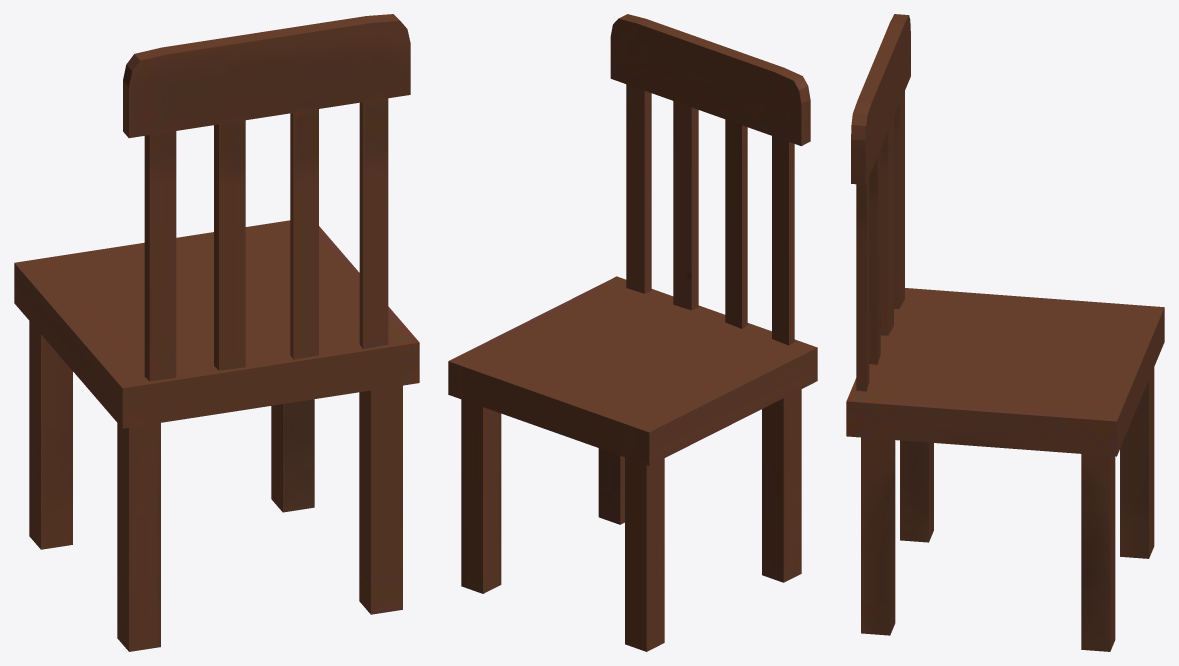
Rendered from chair.glb.
3 renders of one model, left to right at view 1: azimuth 30°, elevation 25°; view 2: azimuth 150°, elevation 25°; view 3: azimuth 270°, elevation 25°, orthographic. The views are drawn at different scales.
Visible parts, largest first — view 1: Cube.002; view 2: Cube.002; view 3: Cube.002.
Part boxes in pixels (x1,y1,x2,y2): Cube.002: [14, 14, 419, 651]; Cube.002: [448, 14, 817, 651]; Cube.002: [846, 14, 1164, 651].
Bounding box in the file's own units: 0.5466 × 0.9823 × 0.5466.
Materials: 1 (1 with a texture image).
